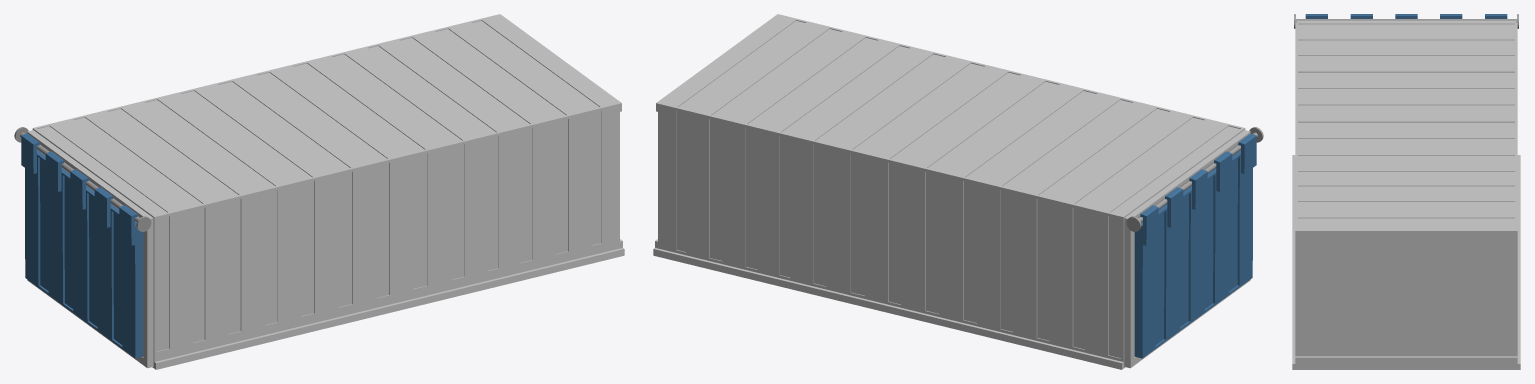
The model's file is StorageContainer_Source.fbx.
3 views of the same model, side by side, from view 1: azimuth 30°, elevation 25°; view 2: azimuth 150°, elevation 25°; view 3: azimuth 270°, elevation 25° (orthographic). The views are drawn at different scales.
Visible parts, largest first — view 1: Outside, Door, DoorHardfwware; view 2: Outside, Door, DoorHardfwware; view 3: Outside, Door, DoorHardfwware.
Part boxes in pixels (<box>): Outside: <box>27,14,624,369</box>; Door: <box>21,133,143,358</box>; DoorHardfwware: <box>14,127,151,231</box>; Outside: <box>653,14,1250,369</box>; Door: <box>1134,133,1256,358</box>; DoorHardfwware: <box>1126,127,1263,231</box>; Outside: <box>1292,21,1520,369</box>; Door: <box>1305,14,1507,18</box>; DoorHardfwware: <box>1294,14,1518,28</box>.
Bounding box in the file's own units: 95.22 × 28.93 × 42.44.
